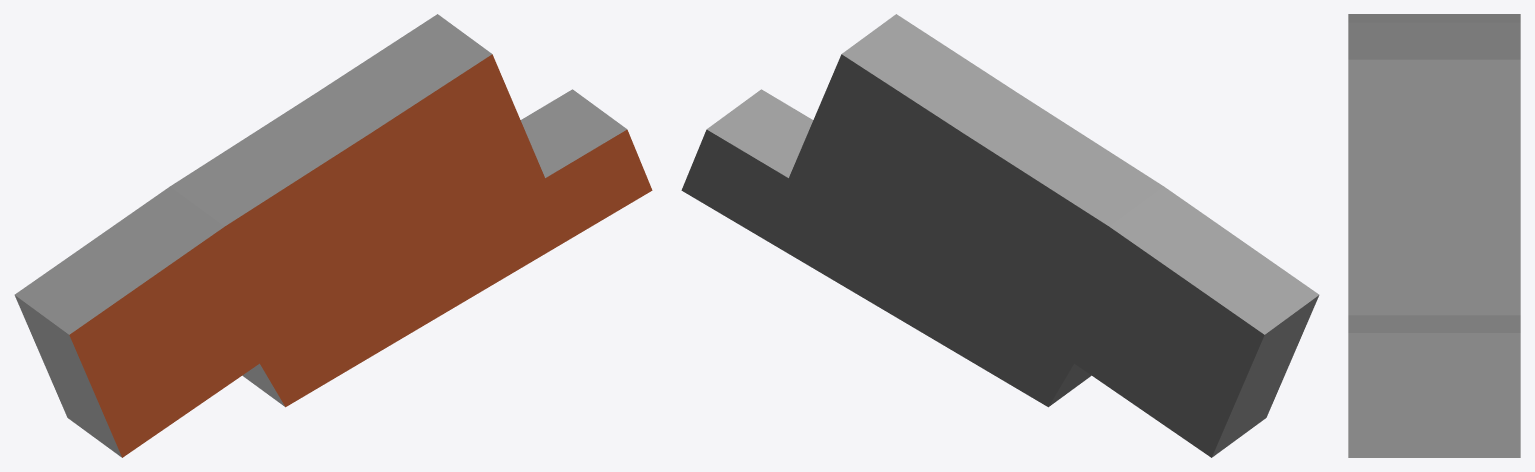
The model's file is construction_3423_assumed_A_Casa_h6m.obj.
The picture shows the model from 3 angles, left to right: view 1: azimuth 30°, elevation 25°; view 2: azimuth 150°, elevation 25°; view 3: azimuth 270°, elevation 25°; orthographic projection. The views are drawn at different scales.
Visible parts, largest first — view 1: construction_3423_assumed_A_Casa; view 2: construction_3423_assumed_A_Casa; view 3: construction_3423_assumed_A_Casa.
Part boxes in pixels (<box>): construction_3423_assumed_A_Casa: <box>14,14,652,457</box>; construction_3423_assumed_A_Casa: <box>681,14,1319,457</box>; construction_3423_assumed_A_Casa: <box>1348,14,1520,457</box>.
Size of the model in its own units: 36.85 by 18.93 by 6.
